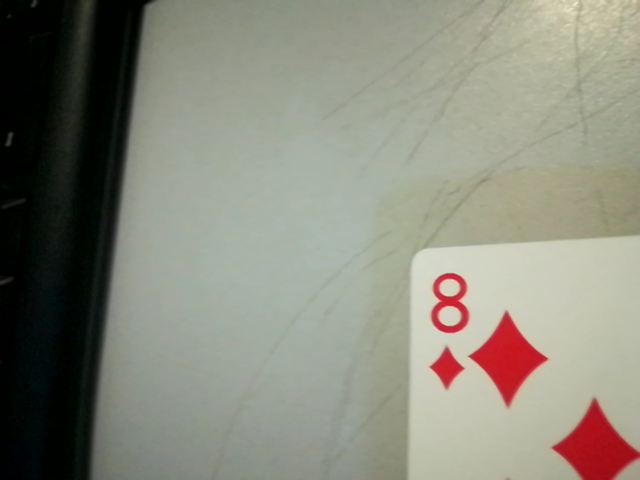fk 8: (415, 262, 479, 396)
